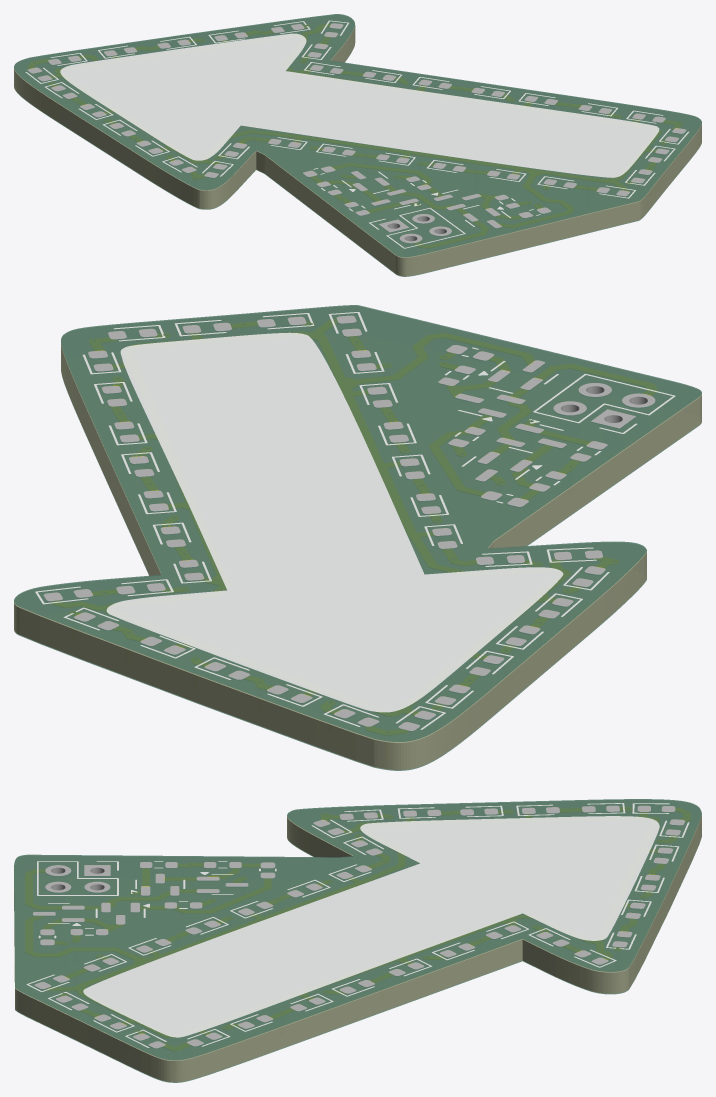
Rendered from featuring-you-sao-2.glb.
3 renders of one model, top to bottom at view 1: azimuth 30°, elevation 25°; view 2: azimuth 150°, elevation 25°; view 3: azimuth 270°, elevation 25°, orthographic. The views are drawn at different scales.
Parts seen in each view (by area): view 1: =>[0:1:1:5], =>[0:1:1:7], =>[0:1:1:9], =>[0:1:1:2]; view 2: =>[0:1:1:5], =>[0:1:1:7], =>[0:1:1:9], =>[0:1:1:2]; view 3: =>[0:1:1:5], =>[0:1:1:7], =>[0:1:1:9], =>[0:1:1:2].
Boxes of the visible parts, x1,y1,x2,y2 form: =>[0:1:1:5]: (25,20,688,248); =>[0:1:1:7]: (14,14,701,276); =>[0:1:1:9]: (14,15,701,276); =>[0:1:1:2]: (27,23,686,247); =>[0:1:1:5]: (35,312,675,729); =>[0:1:1:7]: (14,305,701,770); =>[0:1:1:9]: (14,306,701,769); =>[0:1:1:2]: (43,315,657,734); =>[0:1:1:5]: (26,803,689,1047); =>[0:1:1:7]: (14,799,701,1082); =>[0:1:1:9]: (14,800,701,1082); =>[0:1:1:2]: (25,805,690,1050).
Size of the model in its own units: 0.0401 by 0.00166 by 0.0446.
Materials: 4 (4 with a texture image).
